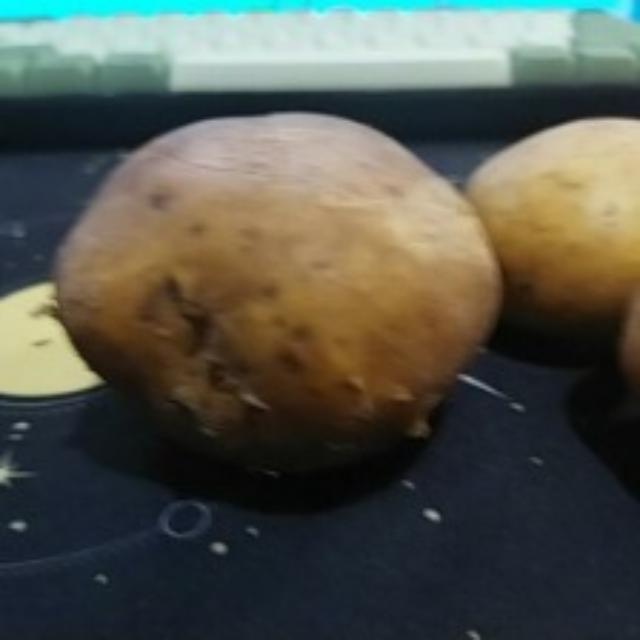Damaged potato: (47, 109, 511, 483)
Potato: (462, 110, 640, 328)
